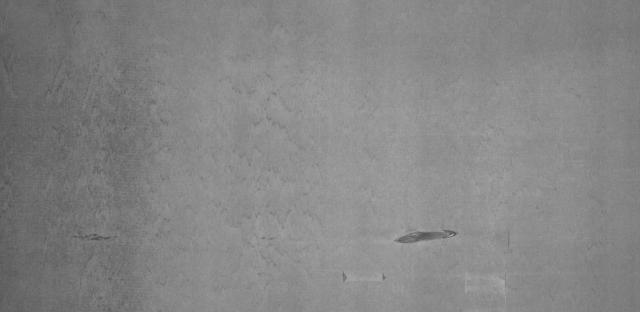rolled_pit: (381, 216, 467, 256), (322, 270, 391, 288)
